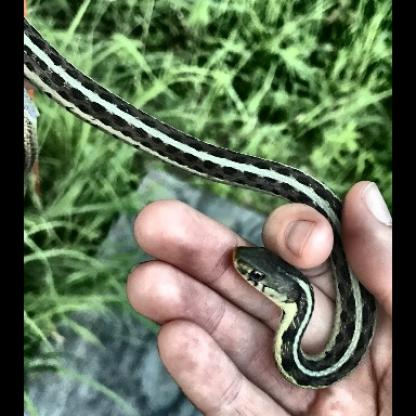Snake: (26, 14, 374, 390)
